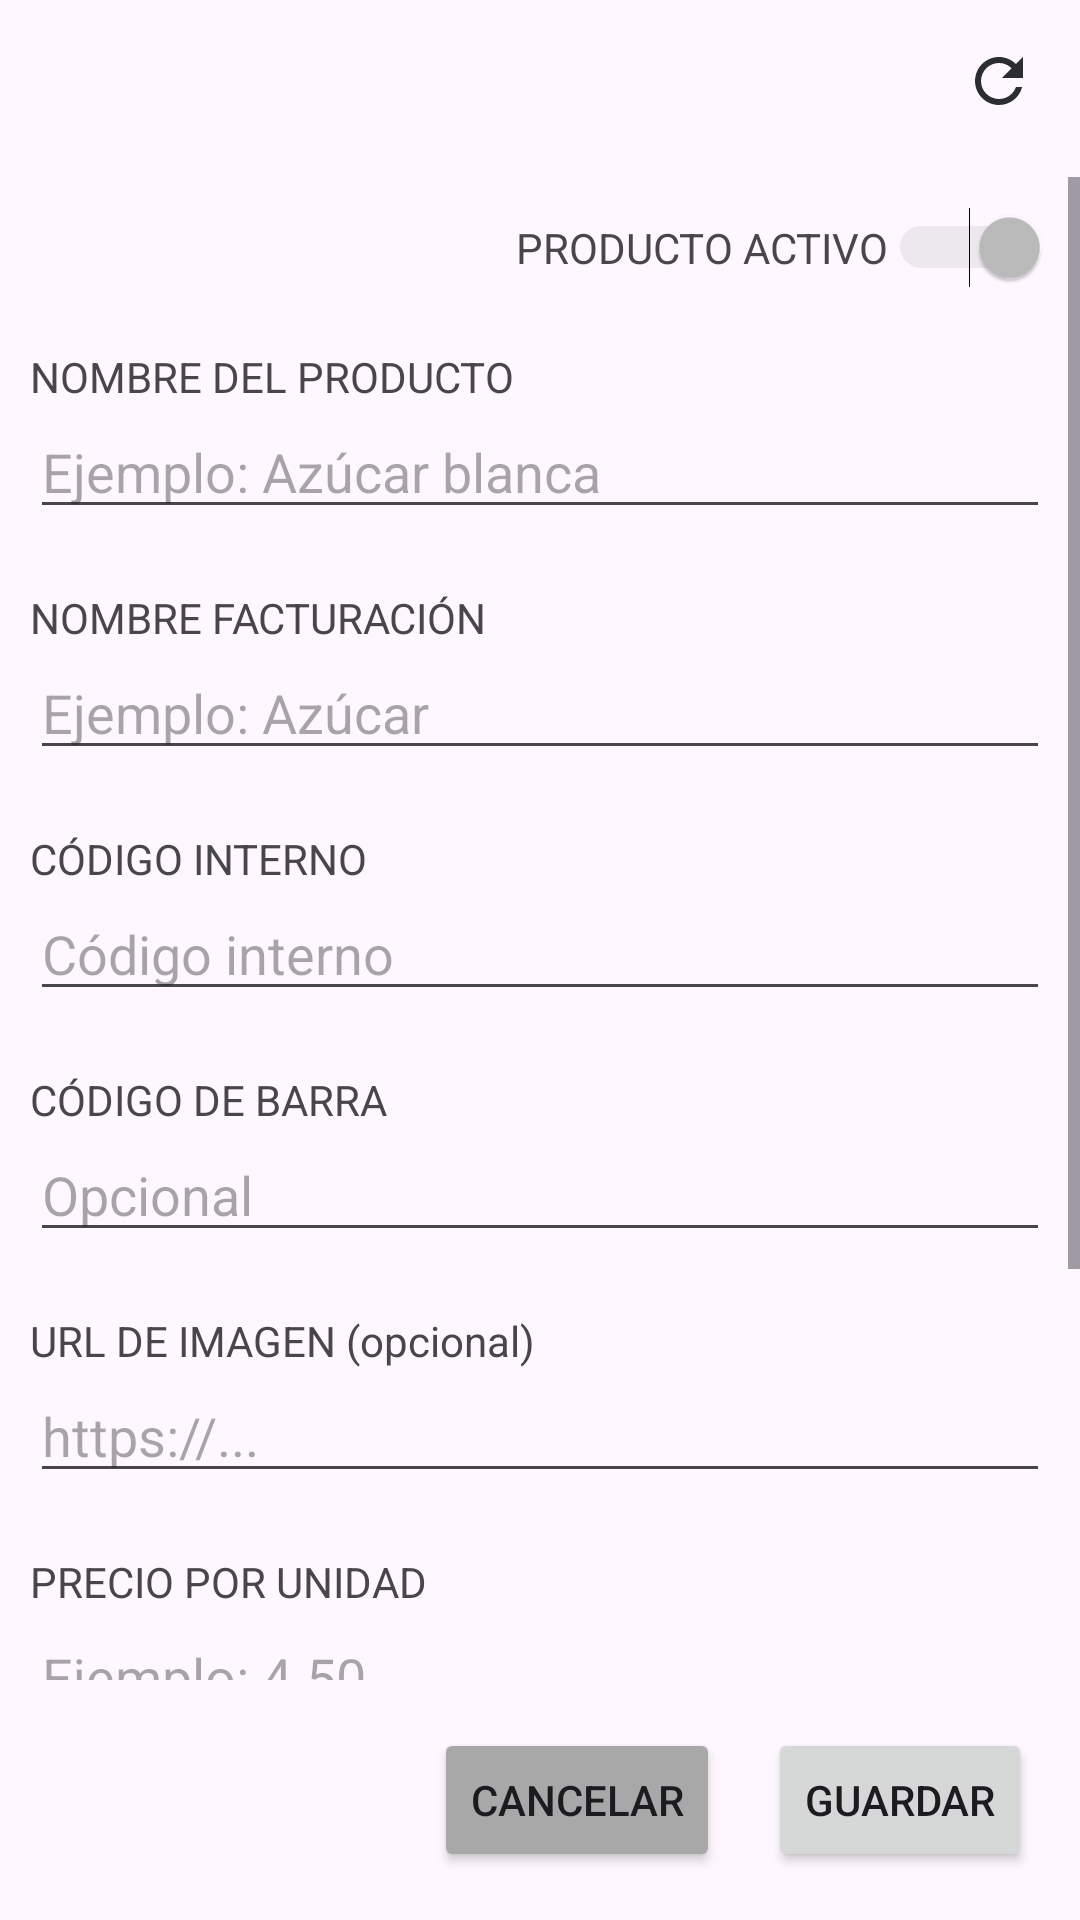

Named icons in this screenshot (1080 x 1920) and their bounding boxes, region(x1, y1, x2, y2):
refresh: region(975, 57, 1023, 105)
